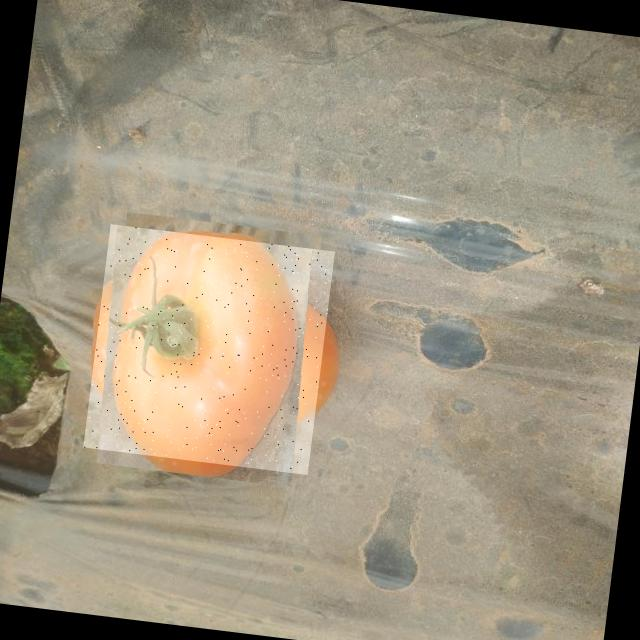Ripe Tomato: (83, 223, 334, 474)
